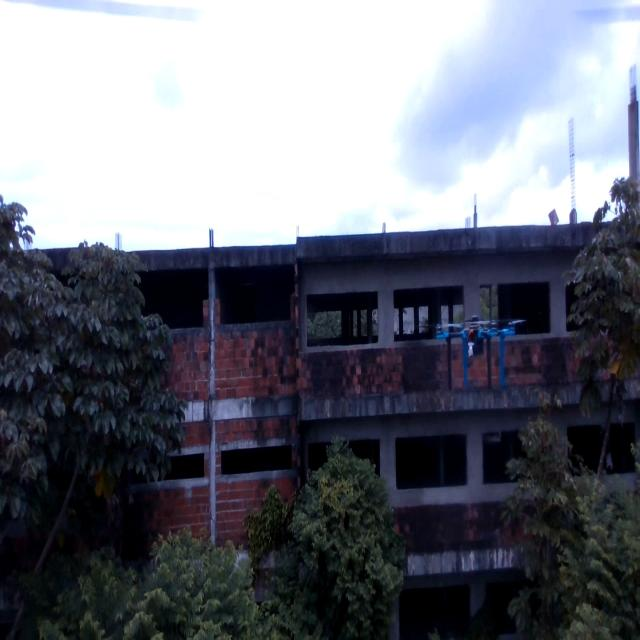-uav-: (418, 298, 532, 391)
